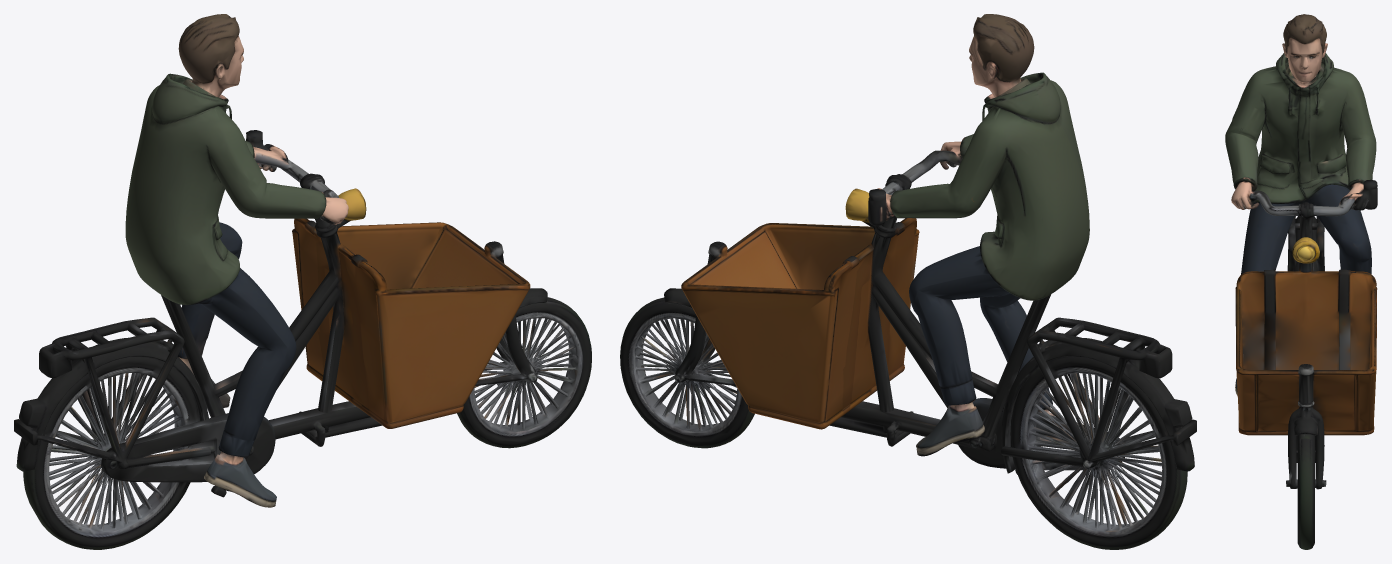
Rendered from cargo_bike_0.glb.
3 renders of one model, left to right at view 1: azimuth 30°, elevation 25°; view 2: azimuth 150°, elevation 25°; view 3: azimuth 270°, elevation 25°, orthographic. The views are drawn at different scales.
Visible parts, largest first — view 1: node_0; view 2: node_0; view 3: node_0.
Part boxes in pixels (<box>): node_0: <box>14,14,591,549</box>; node_0: <box>620,14,1196,549</box>; node_0: <box>1225,14,1377,549</box>.
Size of the model in its own units: 0.9933 by 0.8381 by 0.2857.
Materials: 1 (1 with a texture image).
